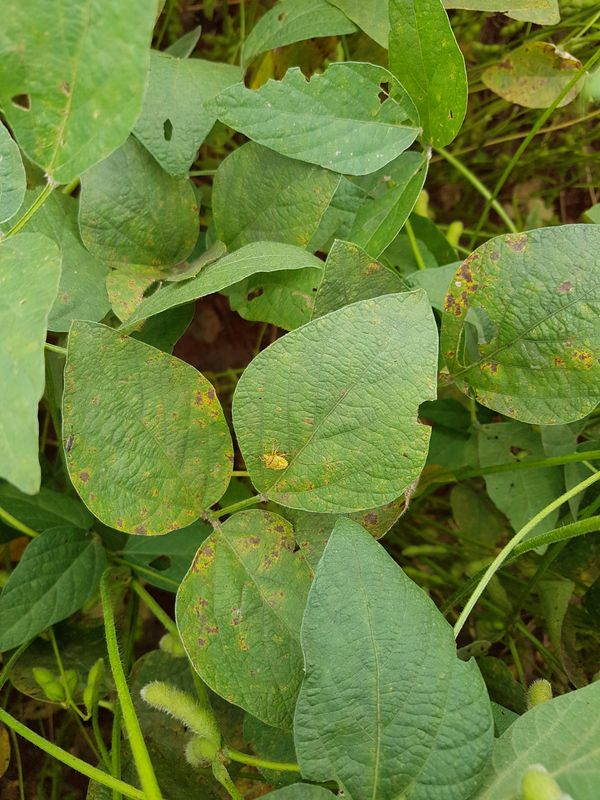Euschistus_heros_ninfa: (247, 437, 300, 484)
